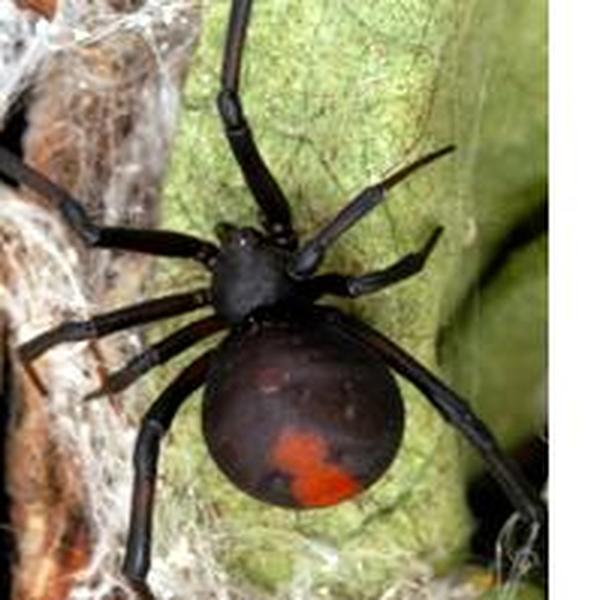Redback Spider: (15, 10, 533, 561)
